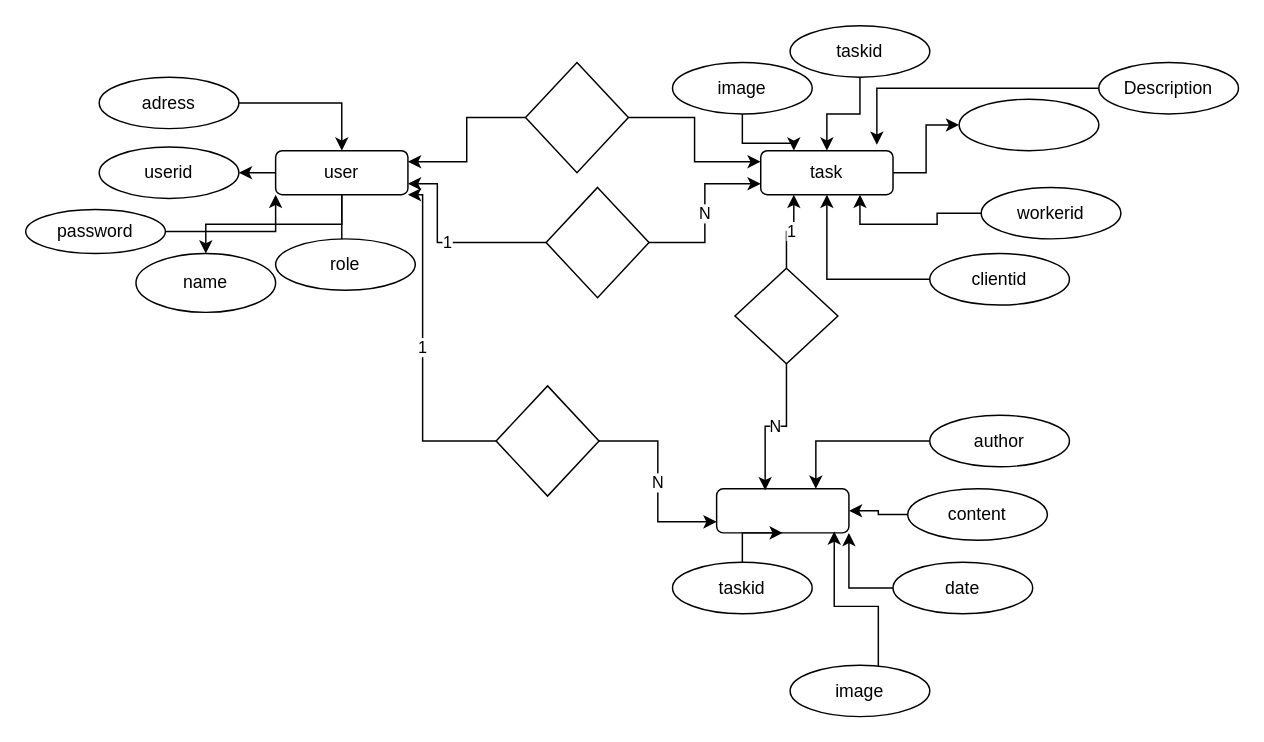
This 1264x742 diagram has some shape labels left out. Here are the shapes that lost their labels. From the top down, the box of each, then its label:
(524, 61, 628, 173): ordered by
(958, 98, 1099, 151): status
(545, 186, 649, 298): creates
(734, 267, 838, 364): belongs to
(495, 384, 599, 496): writes
(715, 487, 849, 533): message
